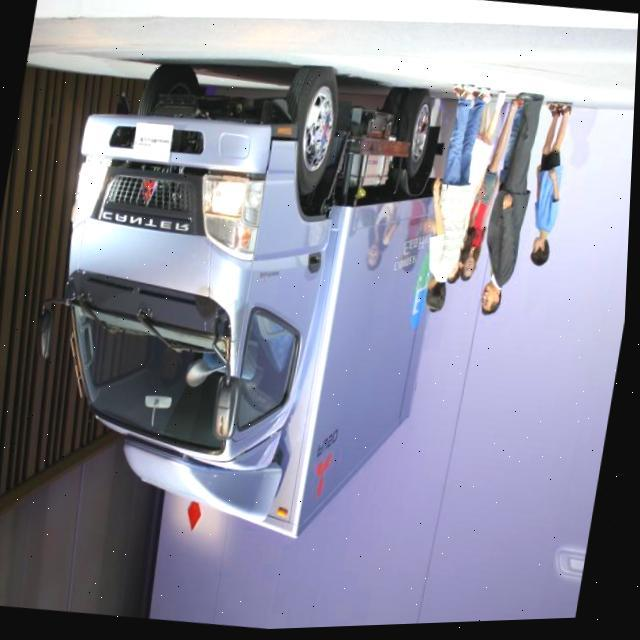truck: (2, 36, 467, 566)
